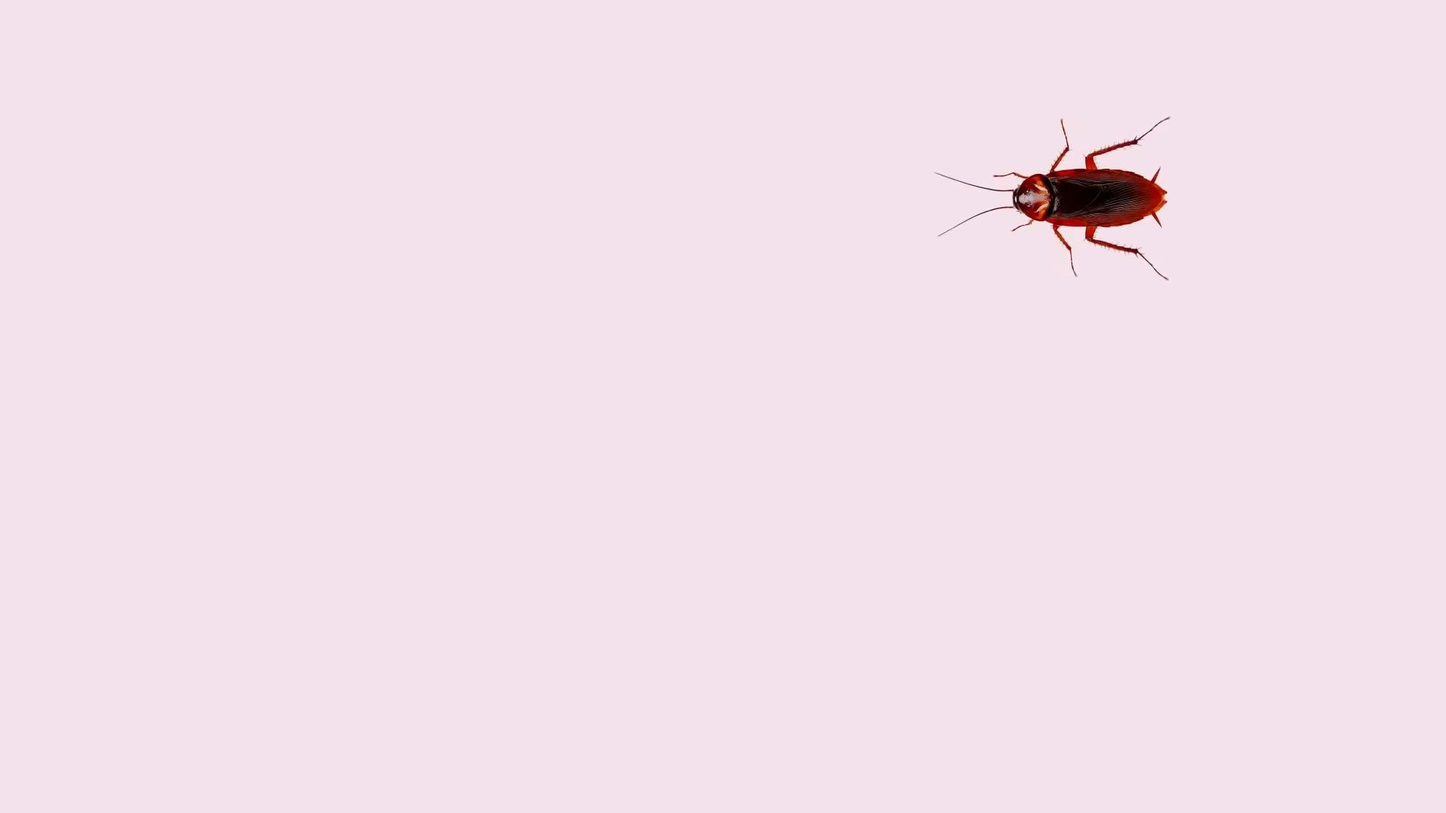cockroach: (933, 137, 1168, 277)
